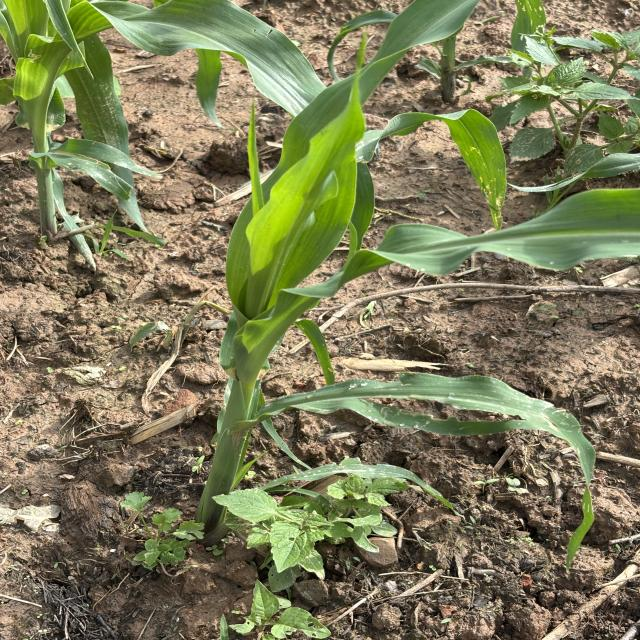maize: (174, 0, 590, 506), (0, 0, 171, 251)
weed: (495, 0, 640, 198), (233, 461, 402, 575), (188, 572, 386, 640)
